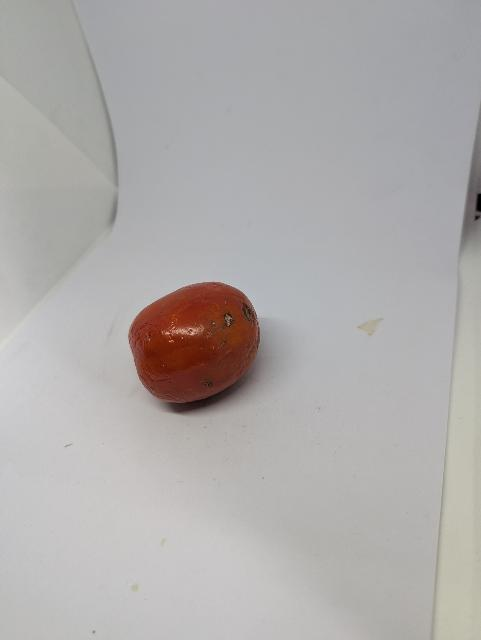defect: (126, 278, 266, 406)
